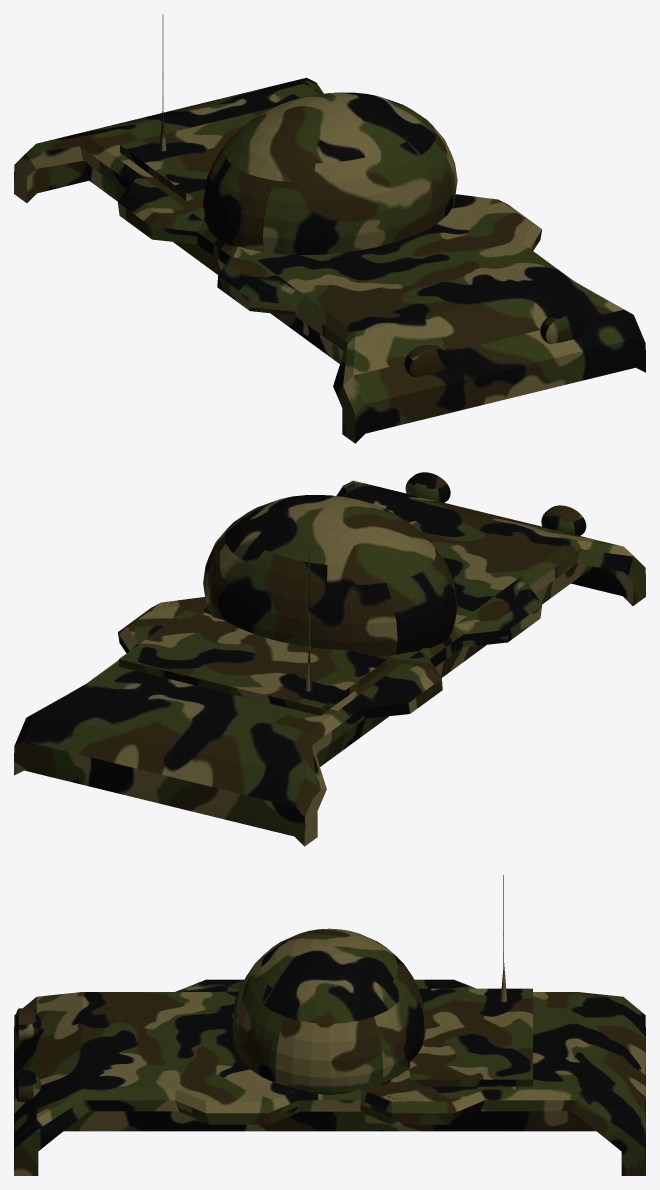
The model's file is cutre.obj.
3 renders of one model, top to bottom at view 1: azimuth 30°, elevation 25°; view 2: azimuth 150°, elevation 25°; view 3: azimuth 270°, elevation 25°, orthographic. The views are drawn at different scales.
Parts seen in each view (by area): view 1: Sphere; view 2: Sphere; view 3: Sphere.
Boxes of the visible parts, left/top/right/bottom form: Sphere: left=14, top=14, right=645, bottom=443; Sphere: left=14, top=472, right=645, bottom=846; Sphere: left=14, top=875, right=645, bottom=1175.
Bounding box in the file's own units: 3.98 × 2.85 × 8.09.
